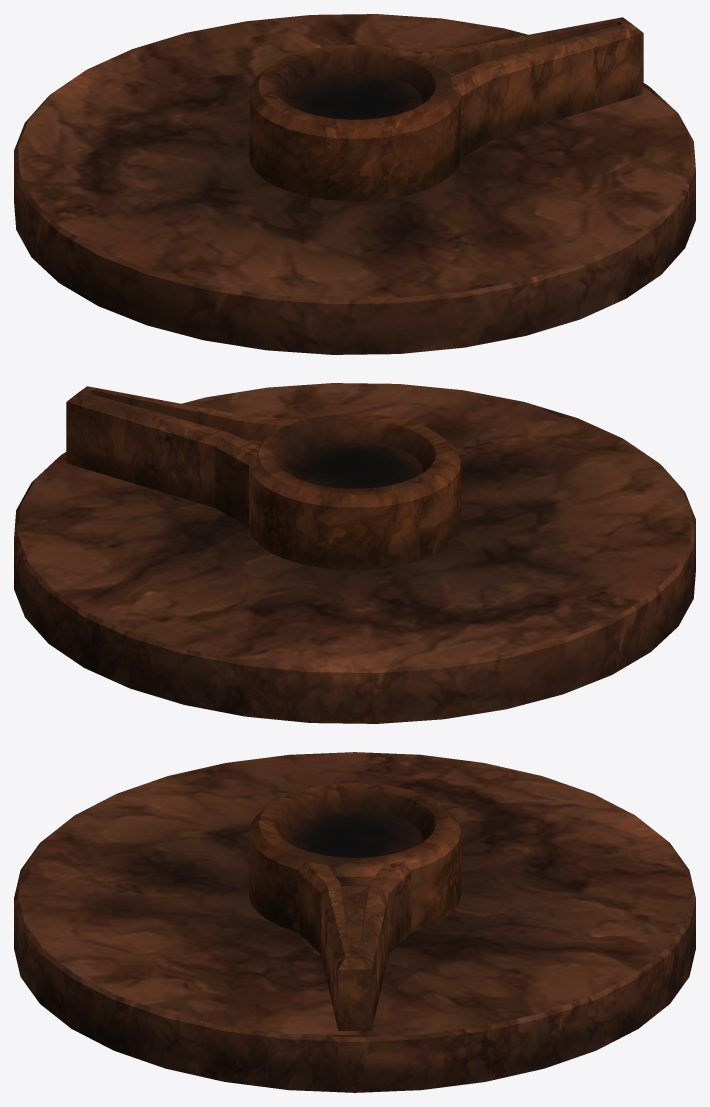
The model's file is DiskInteraction.fbx.
3 renders of one model, top to bottom at view 1: azimuth 30°, elevation 25°; view 2: azimuth 150°, elevation 25°; view 3: azimuth 270°, elevation 25°, orthographic.
Parts seen in each view (by area): view 1: Disk, Direction, Directionlook; view 2: Disk, Direction, Directionlook; view 3: Disk, Direction, Directionlook.
Part boxes in pixels (<box>): Disk: <box>14,14,695,354</box>; Direction: <box>249,44,460,201</box>; Directionlook: <box>406,17,643,157</box>; Disk: <box>14,383,695,723</box>; Direction: <box>249,413,460,570</box>; Directionlook: <box>66,386,303,526</box>; Disk: <box>14,752,695,1092</box>; Direction: <box>249,783,460,932</box>; Directionlook: <box>298,861,411,1030</box>.
Bounding box in the file's own units: 200 × 40.46 × 200.
